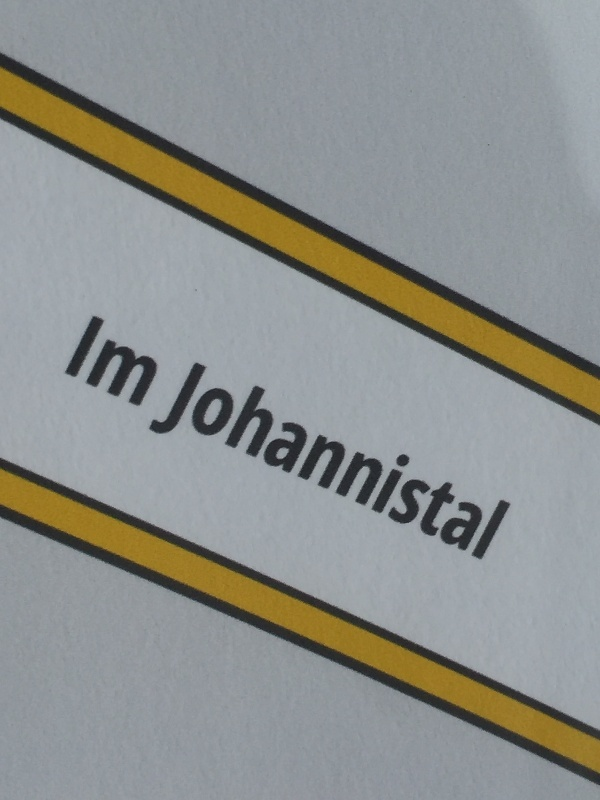text: (209, 360, 224, 563), (225, 360, 240, 563), (241, 360, 256, 563), (257, 360, 272, 563), (273, 360, 288, 563), (289, 360, 304, 563), (305, 360, 320, 563), (321, 360, 336, 563), (337, 360, 352, 563), (353, 360, 368, 563), (369, 360, 384, 563), (385, 360, 400, 563), (401, 360, 416, 563), (417, 360, 432, 563), (433, 360, 448, 563), (449, 360, 464, 563), (465, 360, 480, 563), (481, 360, 496, 563), (497, 360, 512, 563), (194, 360, 208, 563), (97, 314, 112, 410), (113, 314, 128, 410), (129, 314, 144, 410), (145, 314, 160, 410), (513, 360, 514, 563), (161, 314, 163, 410), (95, 314, 96, 410)
